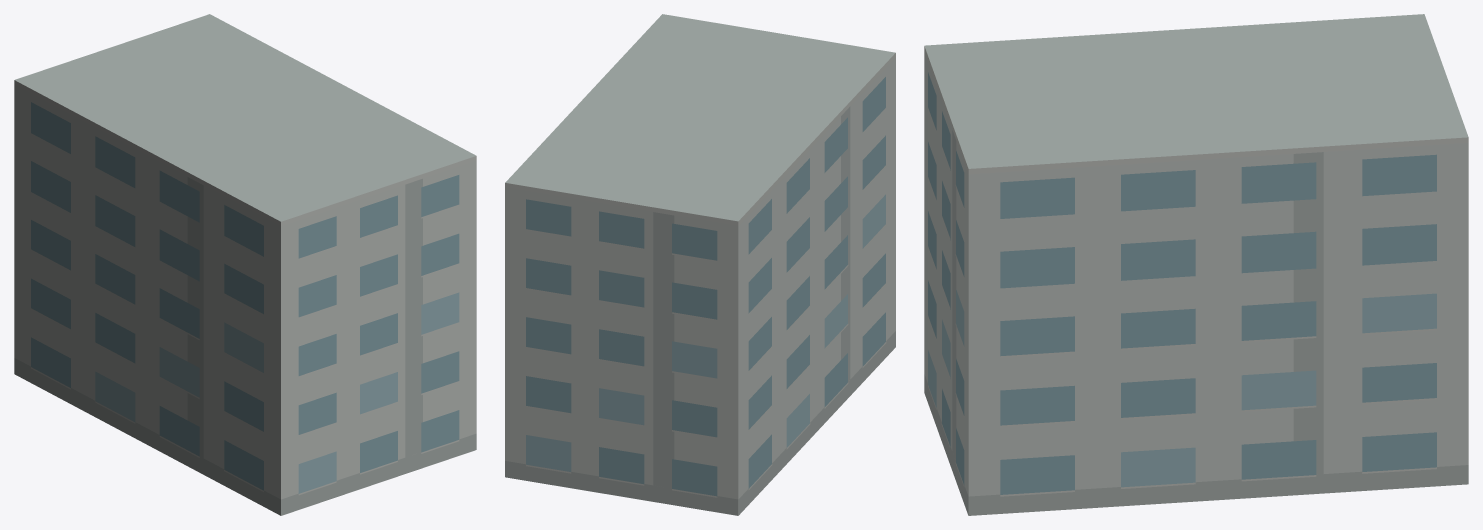
File: survey-upis-32922289.glb
3 views of the same model, side by side, from view 1: azimuth 30°, elevation 25°; view 2: azimuth 150°, elevation 25°; view 3: azimuth 270°, elevation 25° (orthographic). The views are drawn at different scales.
Visible parts, largest first — view 1: survey-upis-32922289.tmp; view 2: survey-upis-32922289.tmp; view 3: survey-upis-32922289.tmp.
Part boxes in pixels (box(x1,y1,x2,y2)): survey-upis-32922289.tmp: box(14, 14, 476, 515); survey-upis-32922289.tmp: box(505, 14, 895, 515); survey-upis-32922289.tmp: box(924, 14, 1468, 515).
Size of the model in its own units: 14.61 by 15.25 by 21.7.
